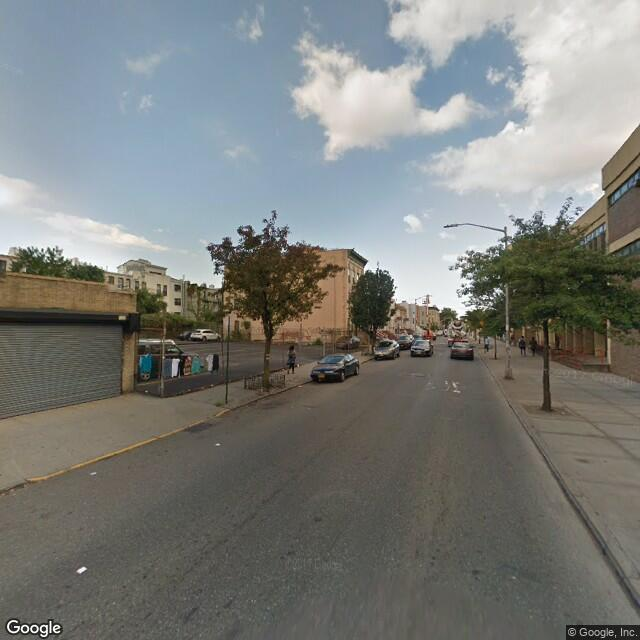litter: (69, 565, 101, 583)
